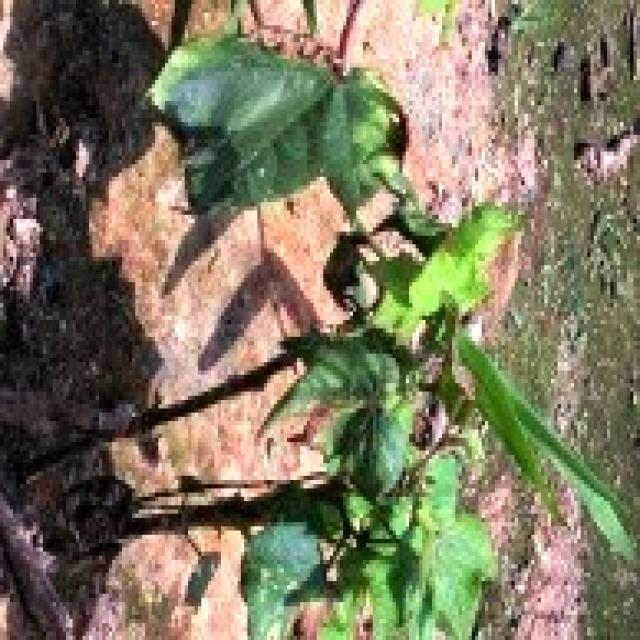Fusarium Wilt: (36, 18, 523, 617)
